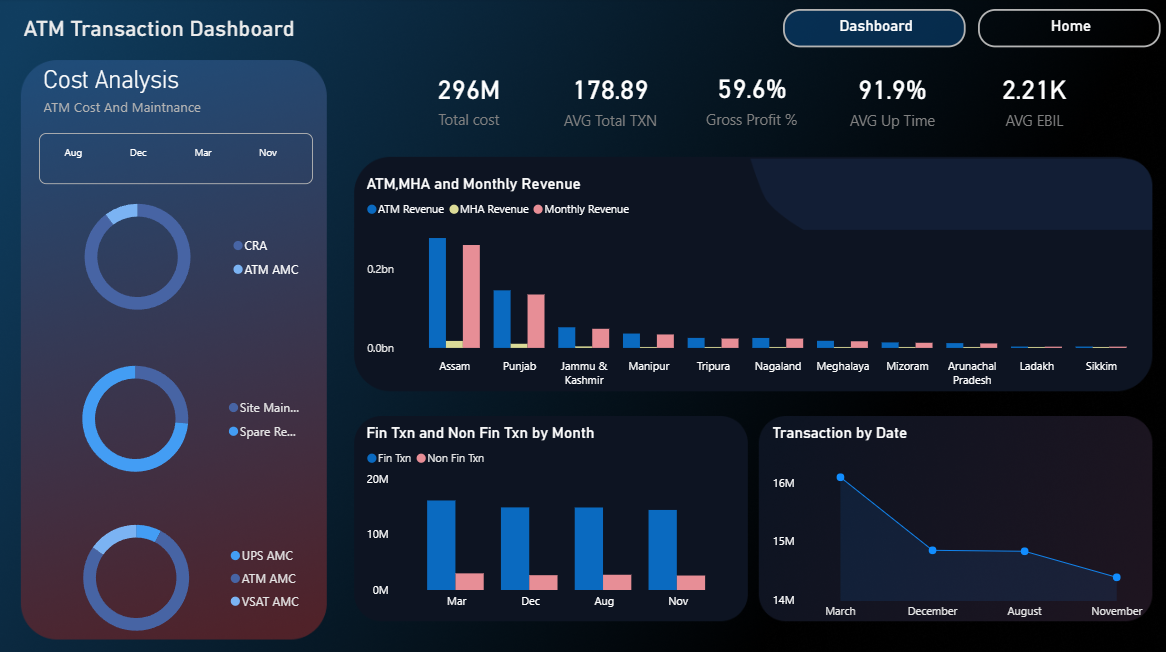

Layout of this report page (visuals, bound fields, positions):
{"tool":"powerbi","page":{"name":"Page 1","canvas":[1280,720],"ordinal":0},"visuals":[{"type":"card","title":"dddddddddd","fields":{"Values":["Sheet1.Total_cost"]},"box":[452.9,66.7,124.3,84.3],"z":0},{"type":"card","fields":{"Values":["Sheet1.AVG_EBIL"]},"box":[1073.3,66.7,123.3,85],"z":1000},{"type":"card","fields":{"Values":["Sheet1.AVG Up Time"]},"box":[918,66.7,123.3,85],"z":2000},{"type":"card","fields":{"Values":["Sheet1.AVG Total TX"]},"box":[609.1,66.7,123.3,85],"z":3000},{"type":"card","fields":{"Values":["Sheet1.grossproft"]},"box":[764.4,66.7,121.7,83.3],"z":4000},{"type":"clusteredColumnChart","title":"Fin Txn and Non Fin Txn by Month","fields":{"Category":["Sheet1.Month_"],"Y":["Sum(Sheet1.Monthly Txn)","Sum(Sheet1.Non Fin Txn)"]},"box":[398.6,465.7,415.7,212.9],"z":5000},{"type":"advancedSlicerVisual","fields":{"Values":["Sheet1.Month_"]},"box":[45,147.5,300,56.2],"z":6000},{"type":"donutChart","fields":{"Y":["Sum(Sheet1.CRA)","Sum(Sheet1.ATM AMC)"]},"box":[43.4,206.1,300,155],"z":7000},{"type":"donutChart","fields":{"Y":["Sum(Sheet1.Site Maint (Non Asset))","Sum(Sheet1.Spare Rep.(UPS))"]},"box":[43.4,382.8,300,155],"z":8000},{"type":"donutChart","fields":{"Y":["Sum(Sheet1.UPS AMC)","Sum(Sheet1.ATM AMC)","Sum(Sheet1.VSAT AMC)"]},"box":[43.4,557.7,300,155],"z":9000},{"type":"clusteredColumnChart","title":"ATM,MHA and Monthly Revenue","fields":{"Y":["Sum(Sheet1.ATM Rev Total)","Sum(Sheet1.MHA Revenue)","Sum(Sheet1.Monthly Rev)"],"Category":["Sheet1.STATE"]},"box":[398.6,192.9,871.4,241.4],"z":10000},{"type":"stackedAreaChart","title":"Transaction by Date","fields":{"Category":["Sheet1.Month"],"Y":["Sum(Sheet1.Monthly Txn)"]},"box":[843.5,465.2,427.2,223.9],"z":11000},{"type":"textbox","title":"ATM Transaction Dashboard","box":[22.5,20,525,32.5],"z":12000},{"type":"textbox","title":"Cost Analysis","box":[45,72.5,300,66.2],"z":13000},{"type":"pageNavigator","title":"Dashboard","box":[859.9,12.2,200,41.7],"z":14000},{"type":"pageNavigator","title":"Home","box":[1073.2,12.2,200,41.7],"z":15000}]}

Visuals, with their boxes in screenshot pixels (x1, y1, x2, y2), scaled from the page's 1280x720 canvas onto the 1166x652 screenshot:
"dddddddddd" card: (413,60,526,137)
card - Sheet1.AVG_EBIL: (978,60,1090,137)
card - Sheet1.AVG Up Time: (836,60,949,137)
card - Sheet1.AVG Total TX: (555,60,667,137)
card - Sheet1.grossproft: (696,60,807,136)
"Fin Txn and Non Fin Txn by Month" clusteredColumnChart: (363,422,742,615)
advancedSlicerVisual - Sheet1.Month_: (41,134,314,184)
donutChart - Sum(Sheet1.CRA) x Sum(Sheet1.ATM AMC): (40,187,313,327)
donutChart - Sum(Sheet1.Site Maint (Non Asset)) x Sum(Sheet1.Spare Rep.(UPS)): (40,347,313,487)
donutChart - Sum(Sheet1.UPS AMC) x Sum(Sheet1.ATM AMC): (40,505,313,645)
"ATM,MHA and Monthly Revenue" clusteredColumnChart: (363,175,1157,393)
"Transaction by Date" stackedAreaChart: (768,421,1158,624)
"ATM Transaction Dashboard" textbox: (20,18,499,48)
"Cost Analysis" textbox: (41,66,314,126)
"Dashboard" pageNavigator: (783,11,966,49)
"Home" pageNavigator: (978,11,1160,49)
